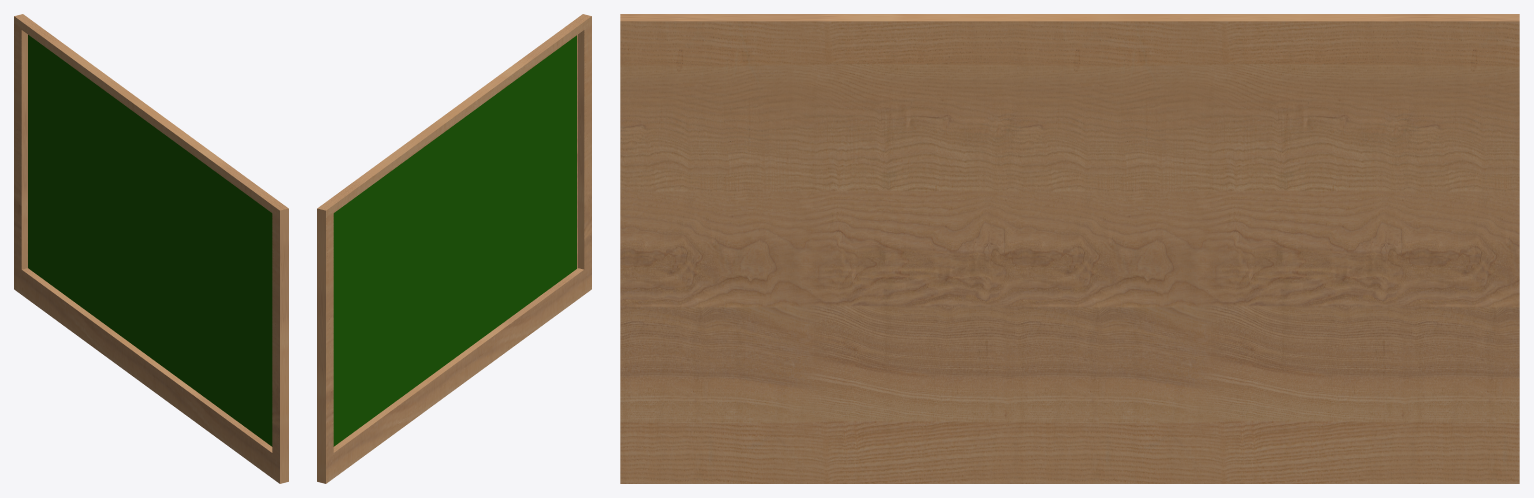
Rendered from quadro.fbx.
3 renders of one model, left to right at view 1: azimuth 30°, elevation 25°; view 2: azimuth 150°, elevation 25°; view 3: azimuth 270°, elevation 25°, orthographic. The views are drawn at different scales.
Parts seen in each view (by area): view 1: QuadroDentro, QuadroFora; view 2: QuadroDentro, QuadroFora; view 3: QuadroFora.
Boxes of the visible parts, box(x1,y1,x2,y2) form: QuadroDentro: box(28, 35, 272, 446); QuadroFora: box(14, 14, 288, 483); QuadroDentro: box(333, 35, 576, 446); QuadroFora: box(317, 14, 591, 483); QuadroFora: box(620, 14, 1519, 483).
Size of the model in its own units: 13.01 by 380 by 670.
